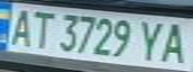2: (93, 15, 115, 57)
3: (54, 11, 81, 53)
7: (75, 12, 96, 55)
9: (109, 16, 136, 60)
A: (157, 19, 193, 65), (3, 6, 36, 47)
T: (24, 8, 57, 50)
Y: (133, 18, 169, 62)
